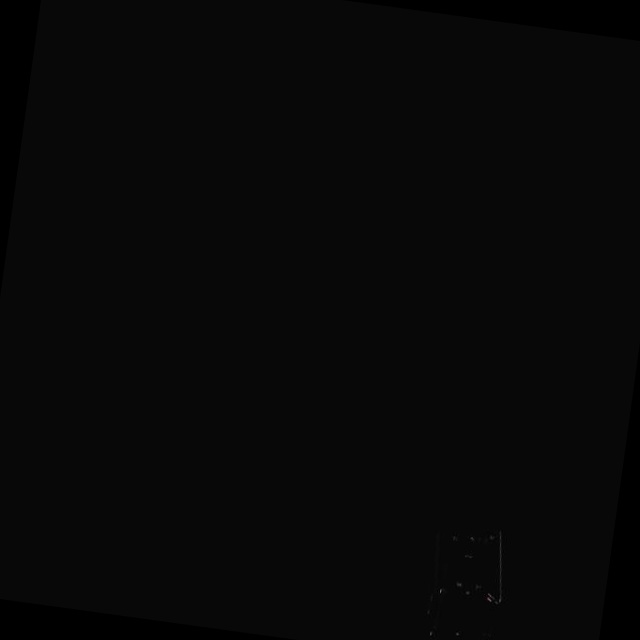satellite: (403, 503, 520, 640)
